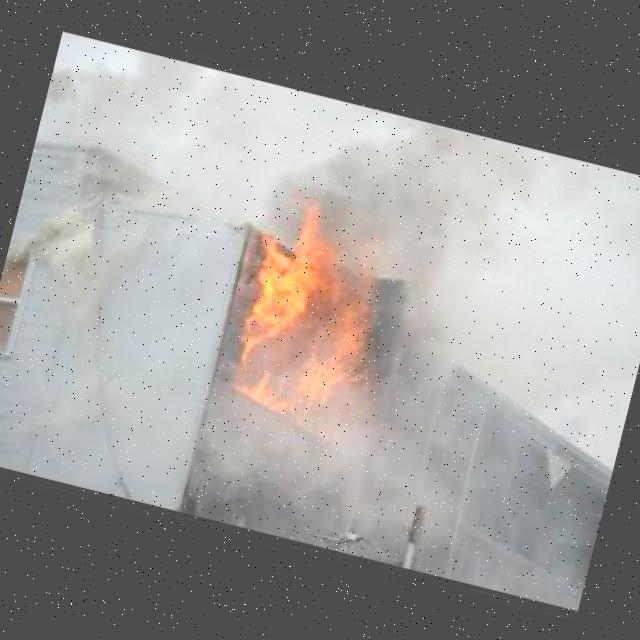fire: (202, 180, 410, 448)
